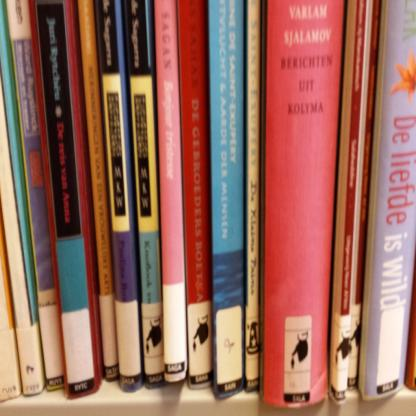book: (0, 0, 416, 407), (262, 0, 344, 406)
